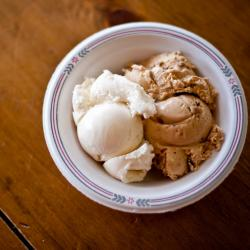icecream: (70, 51, 221, 189)
